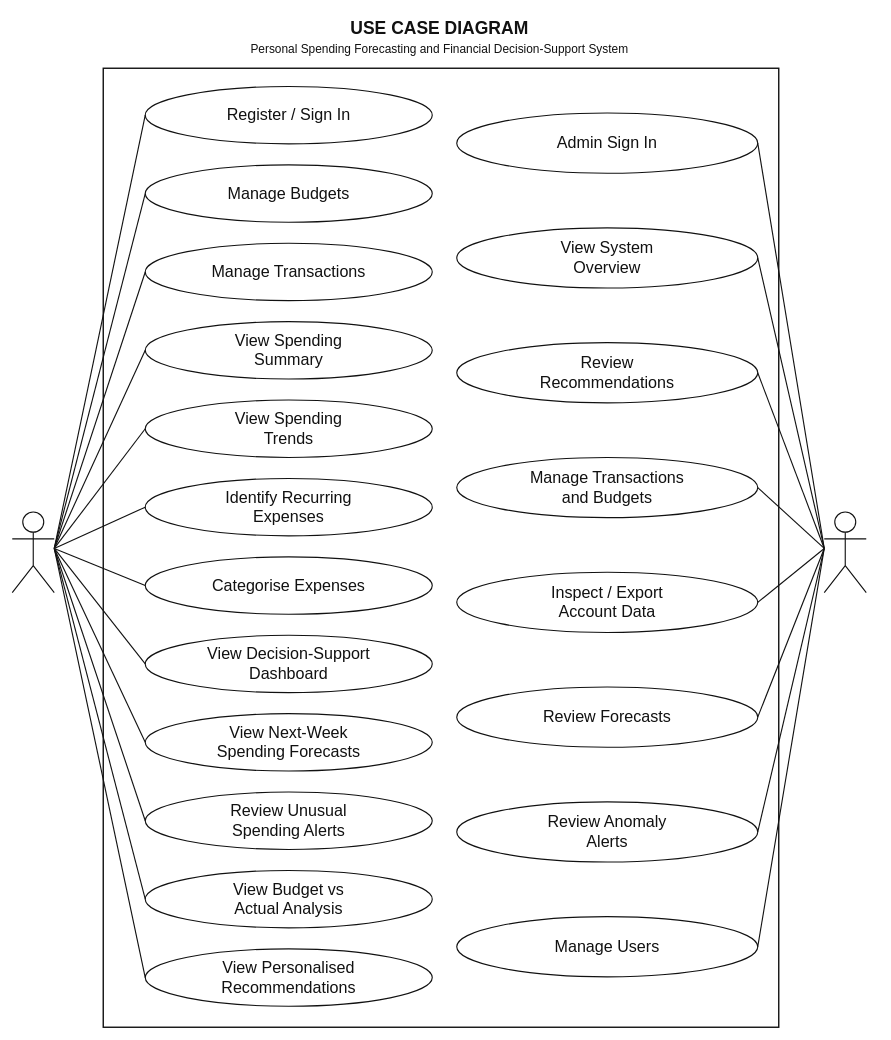
Image size: 891x1040. Some labels were removed from this diagram. Here are the shapes that lost their labels. From the top down, the centre of each, then its label:
At (32,552): "User".
At (844,552): "Administrator".
